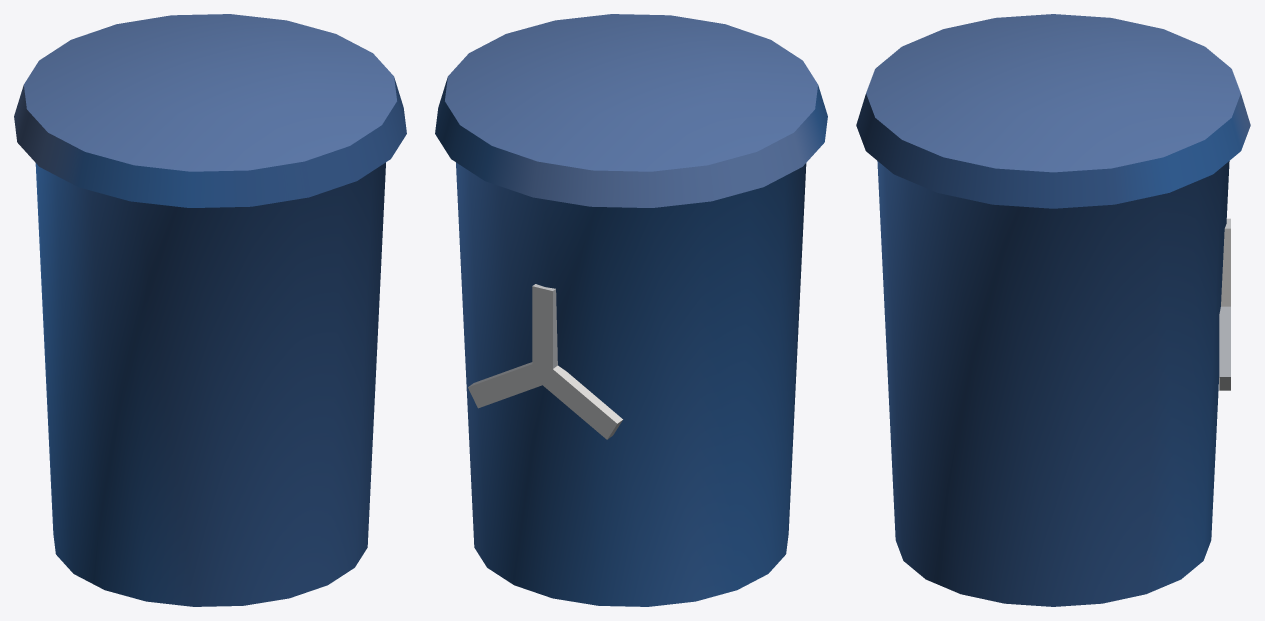
The model's file is RecycleBin.fbx.
The picture shows the model from 3 angles, left to right: view 1: azimuth 30°, elevation 25°; view 2: azimuth 150°, elevation 25°; view 3: azimuth 270°, elevation 25°; orthographic projection.
Parts seen in each view (by area): view 1: SM_Prop_RecycleBin; view 2: SM_Prop_RecycleBin; view 3: SM_Prop_RecycleBin.
Boxes of the visible parts, <box> form: SM_Prop_RecycleBin: <box>14,14,406,606</box>; SM_Prop_RecycleBin: <box>435,14,827,606</box>; SM_Prop_RecycleBin: <box>856,14,1250,606</box>.
Size of the model in its own units: 2 by 2.62 by 2.
